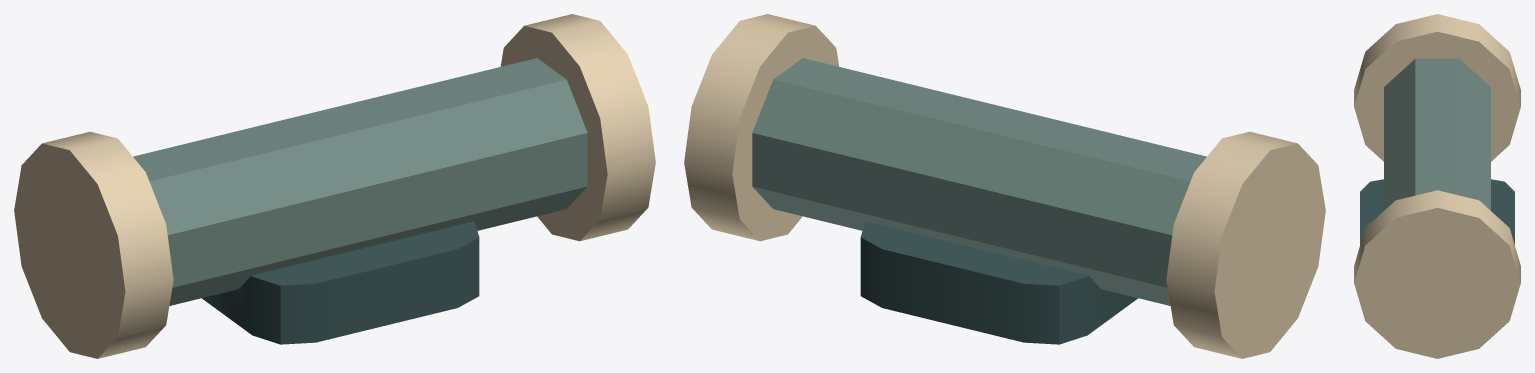
Rendered from pipe-kit-straight.glb.
3 views of the same model, side by side, from view 1: azimuth 30°, elevation 25°; view 2: azimuth 150°, elevation 25°; view 3: azimuth 270°, elevation 25° (orthographic). The views are drawn at different scales.
Parts seen in each view (by area): view 1: pipe-kit-straight; view 2: pipe-kit-straight; view 3: pipe-kit-straight.
Boxes of the visible parts, x1,y1,x2,y2 form: pipe-kit-straight: [14, 14, 655, 358]; pipe-kit-straight: [684, 14, 1325, 358]; pipe-kit-straight: [1354, 14, 1520, 358].
Bounding box in the file's own units: 1.98 × 0.72 × 0.72.
1 material, 1 textured.
